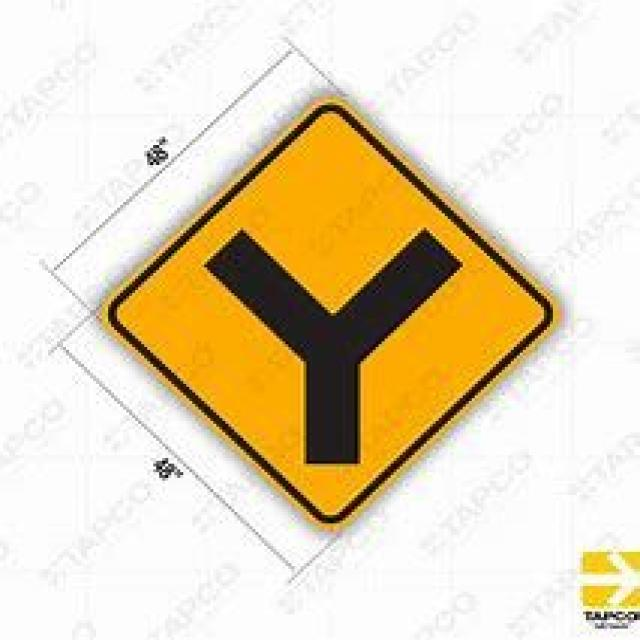light_traffic: (99, 100, 559, 529)
